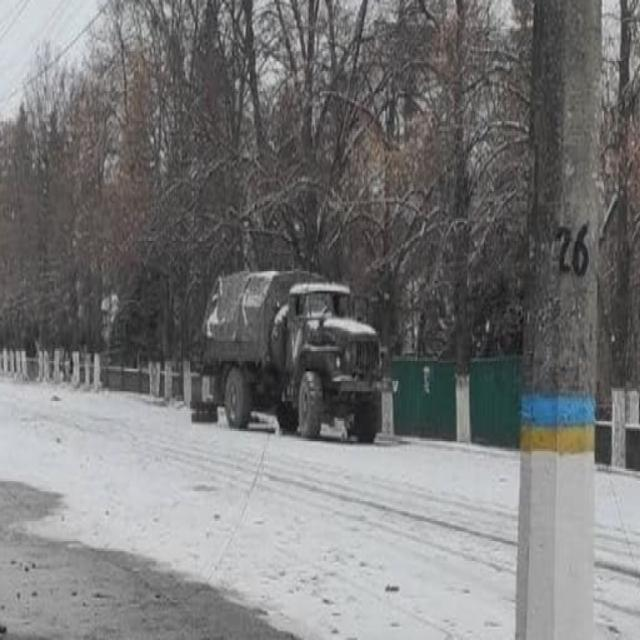TRUCK: (200, 258, 386, 449)
